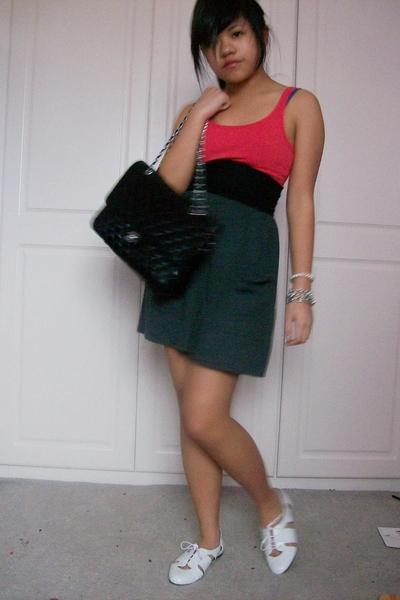bag: (93, 108, 213, 299)
dress: (137, 87, 299, 378)
shoe: (169, 508, 295, 583)
